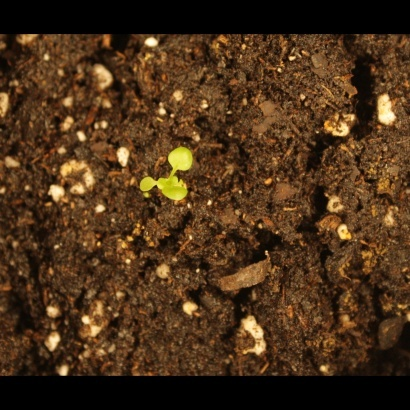leaf: (164, 146, 199, 172), (161, 183, 197, 207), (128, 172, 160, 195)
